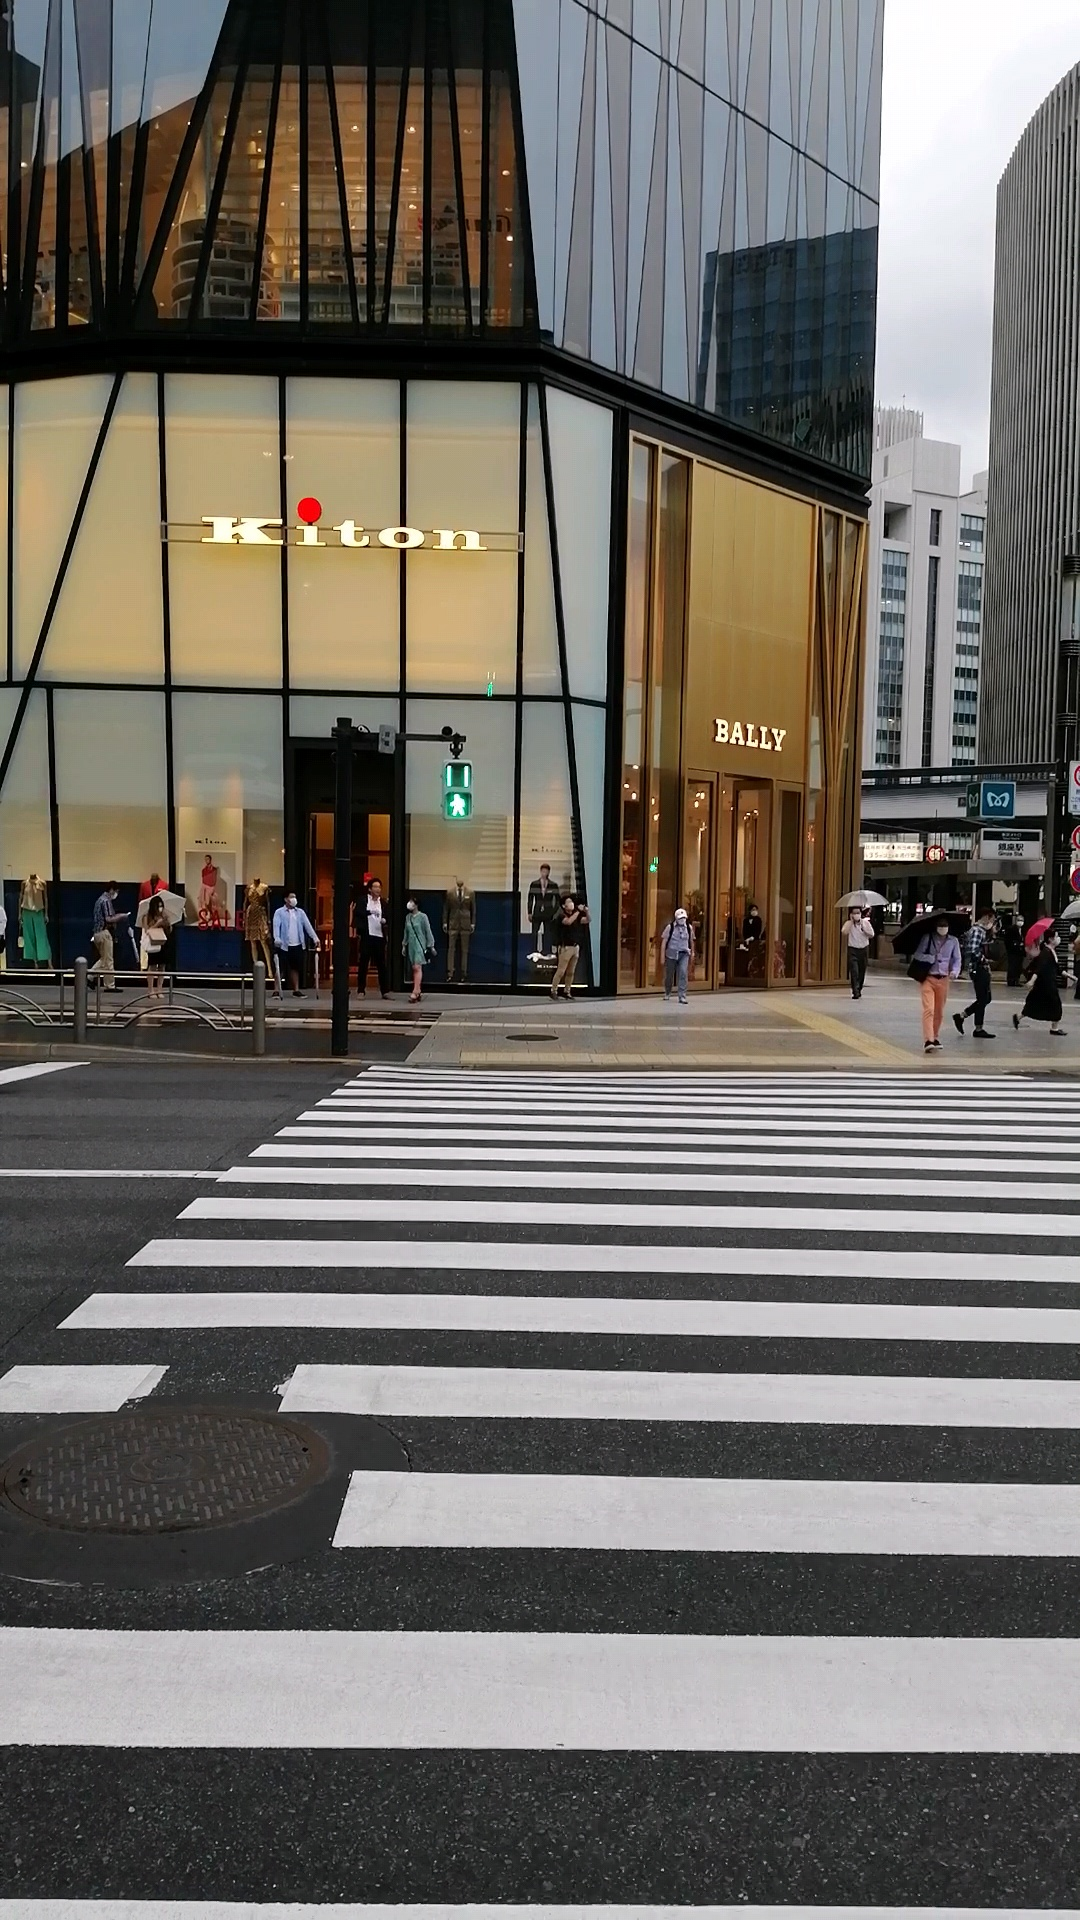green: (440, 760, 473, 822)
